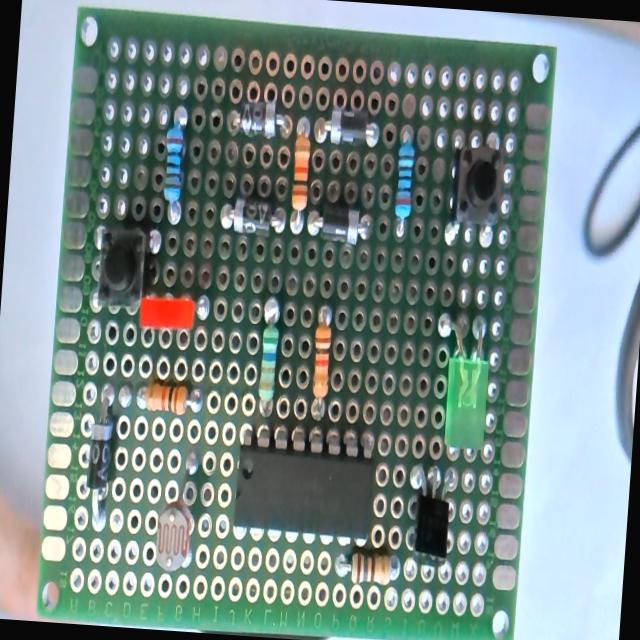IC: (227, 412, 387, 542)
cds: (144, 458, 210, 572)
diode: (78, 378, 122, 534), (312, 90, 388, 162), (213, 185, 288, 252), (224, 89, 297, 149), (306, 199, 378, 250)
led: (426, 298, 502, 452), (136, 276, 209, 345)
resistor: (158, 92, 198, 238), (250, 289, 290, 418), (304, 295, 342, 428), (386, 113, 422, 250), (134, 366, 206, 429), (286, 106, 316, 250), (326, 539, 404, 591)
switch: (441, 127, 511, 240), (90, 214, 152, 326)
transistor: (404, 460, 466, 573)
